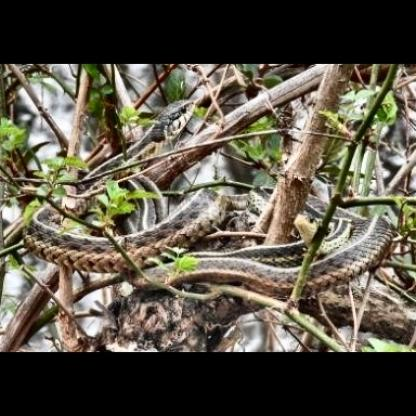Snake: (100, 95, 202, 184)
